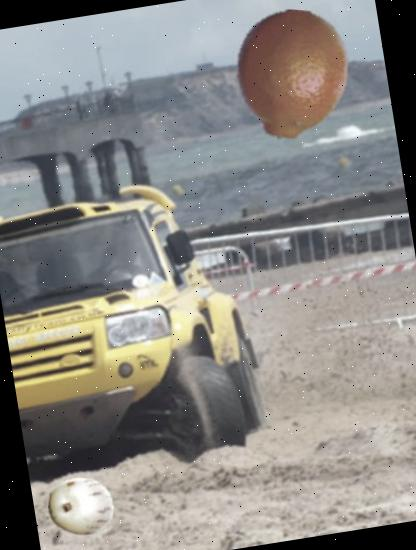Dates: (241, 30, 334, 123)
Pepino: (44, 468, 119, 544)
Tangelo: (216, 0, 368, 152)
